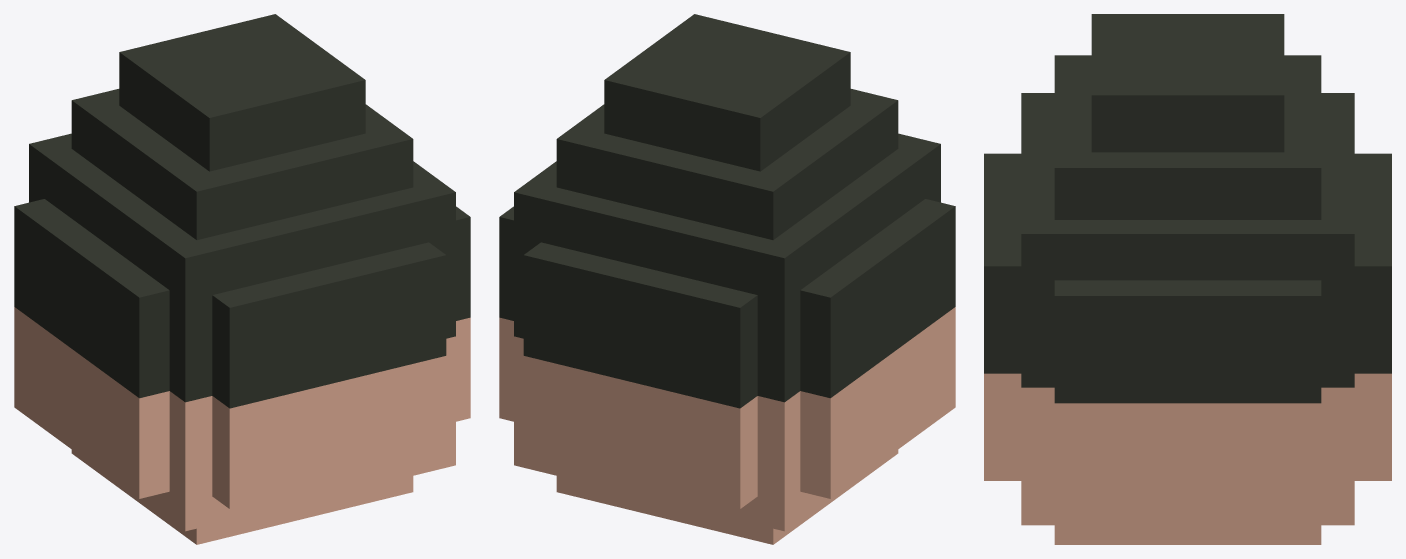
Rendered from 16.Orcalero Orcala.fbx.
The picture shows the model from 3 angles, left to right: view 1: azimuth 30°, elevation 25°; view 2: azimuth 150°, elevation 25°; view 3: azimuth 270°, elevation 25°; orthographic projection. The views are drawn at different scales.
Visible parts, largest first — view 1: Orcalero_Orcala; view 2: Orcalero_Orcala; view 3: Orcalero_Orcala.
Boxes of the visible parts, bbox=[...] form: Orcalero_Orcala: bbox=[14, 14, 470, 544]; Orcalero_Orcala: bbox=[499, 14, 955, 544]; Orcalero_Orcala: bbox=[984, 14, 1391, 544].
Size of the model in its own units: 2.89 by 3.39 by 2.89.
